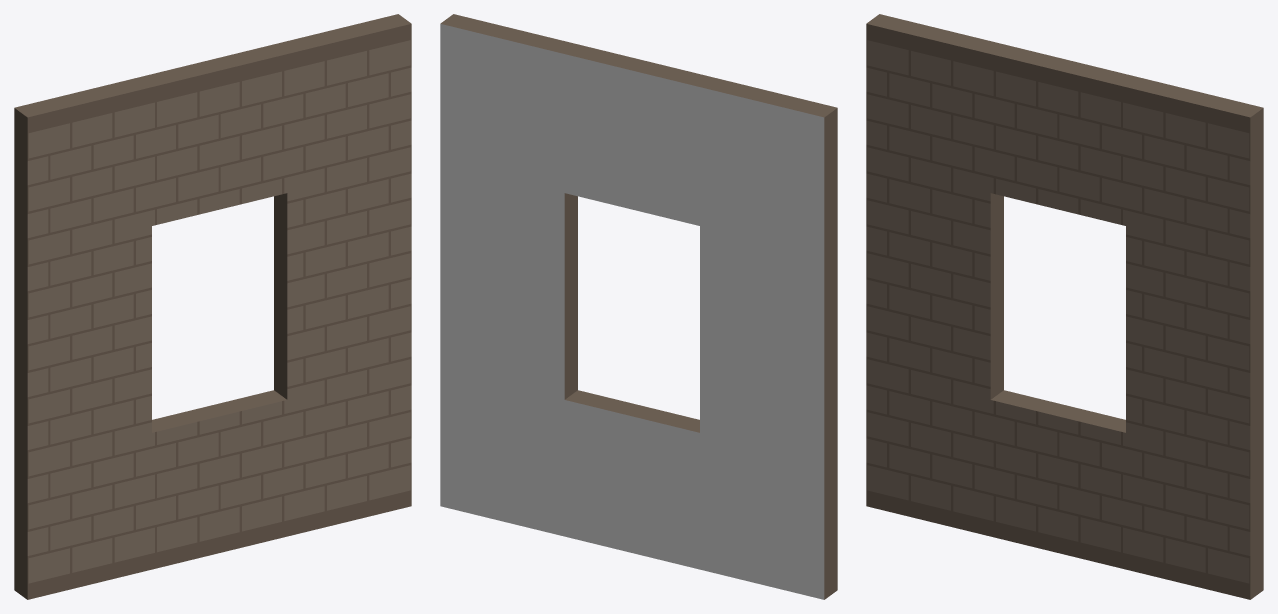
File: Wall1_C10_03.fbx
3 renders of one model, left to right at view 1: azimuth 30°, elevation 25°; view 2: azimuth 150°, elevation 25°; view 3: azimuth 330°, elevation 25°, orthographic.
Visible parts, largest first — view 1: Wall1_C10_03; view 2: Wall1_C10_03; view 3: Wall1_C10_03.
Part boxes in pixels (left/top/right/bottom): Wall1_C10_03: left=14, top=14, right=411, bottom=599; Wall1_C10_03: left=440, top=14, right=837, bottom=599; Wall1_C10_03: left=866, top=14, right=1263, bottom=599.
Size of the model in its own units: 250 by 300 by 15.
